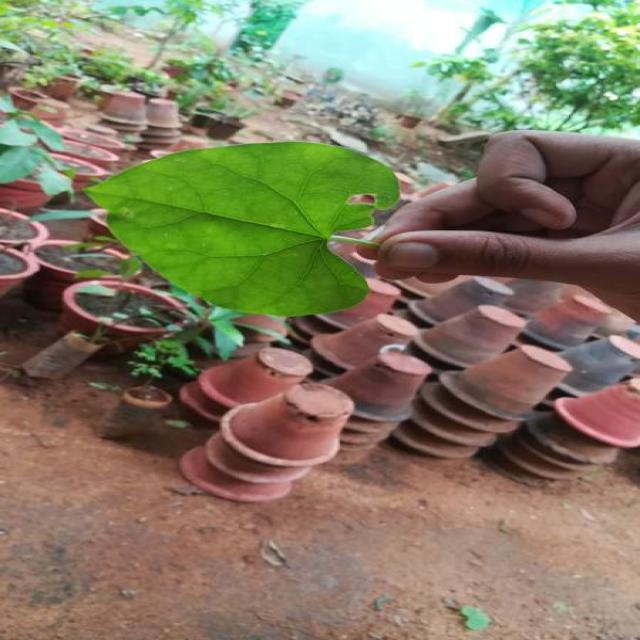Amruthaballi: (88, 145, 397, 314)
defectedAmruthaballi: (322, 150, 398, 242)
